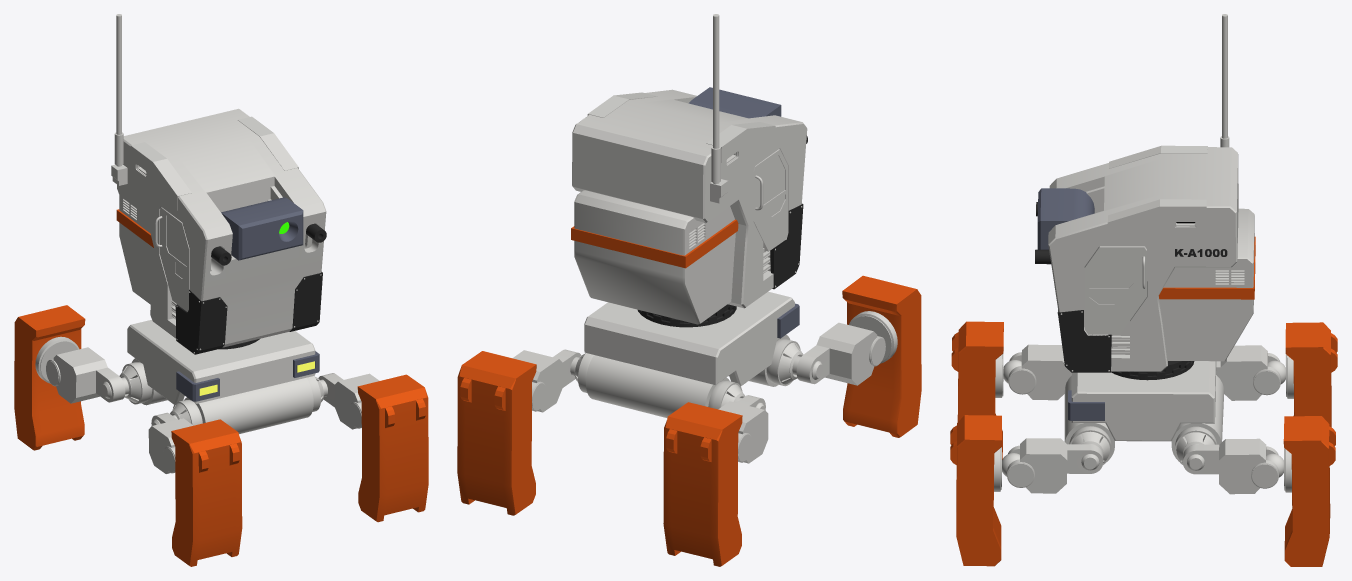
Rendered from tiny_mechbot.glb.
3 views of the same model, side by side, from view 1: azimuth 30°, elevation 25°; view 2: azimuth 150°, elevation 25°; view 3: azimuth 270°, elevation 25° (orthographic). The views are drawn at different scales.
Visible parts, largest first — view 1: Cube_Material.043_0; view 2: Cube_Material.043_0; view 3: Cube_Material.043_0.
Part boxes in pixels (x1,y1,x2,y2): Cube_Material.043_0: [14, 14, 428, 566]; Cube_Material.043_0: [457, 14, 921, 566]; Cube_Material.043_0: [950, 14, 1337, 566].
Size of the model in its own units: 0.9499 by 1.71 by 1.31.
